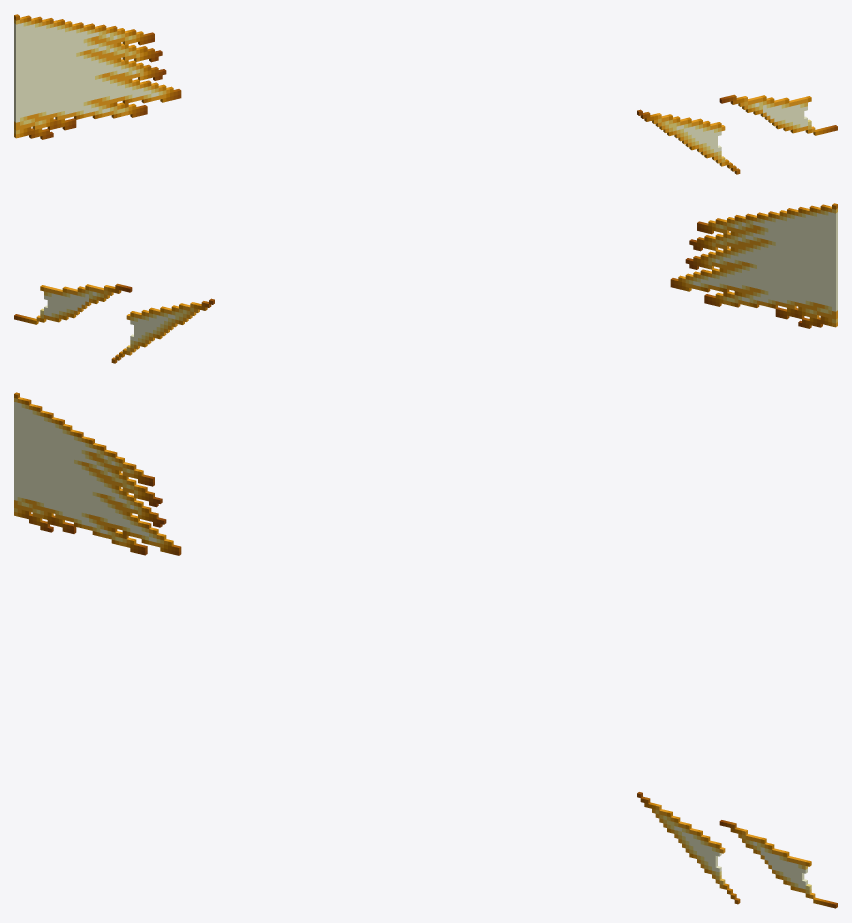
The model's file is Fight_217_2_08_fx.obj.
The picture shows the model from 3 angles, top to bottom: view 1: azimuth 30°, elevation 25°; view 2: azimuth 150°, elevation 25°; view 3: azimuth 330°, elevation 25°; orthographic projection.
Bounding box in the file's own units: 21.9 × 8.5 × 0.1.
1 material, 1 textured.
